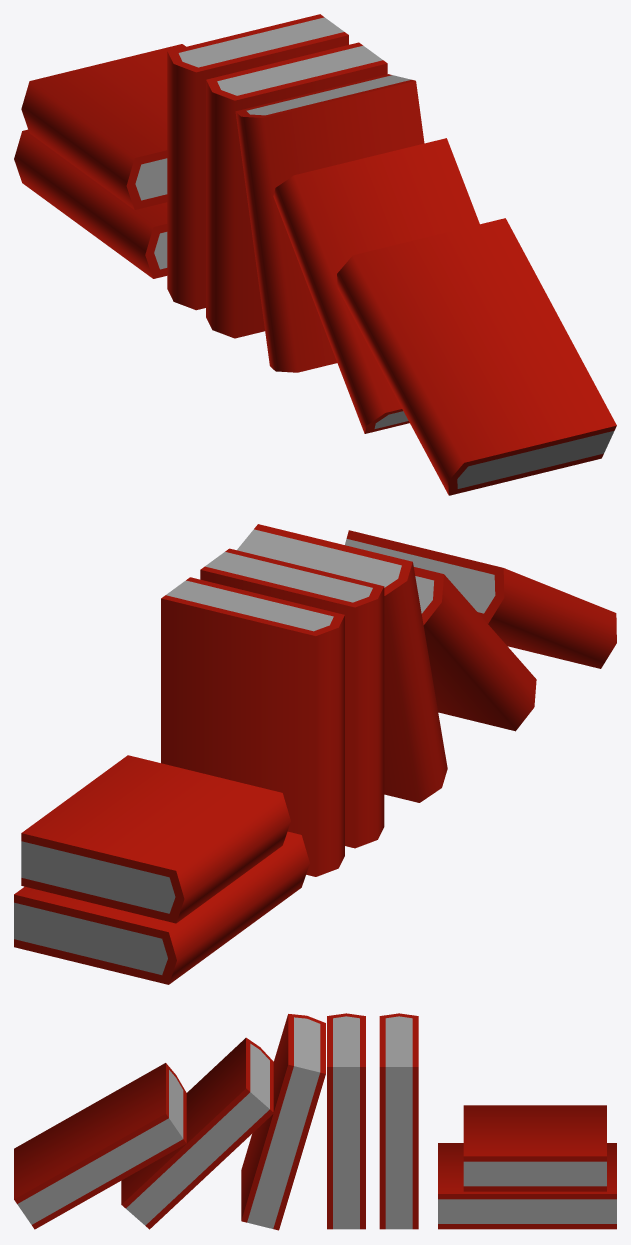
The model's file is GB_098_books.glb.
The picture shows the model from 3 angles, top to bottom: view 1: azimuth 30°, elevation 25°; view 2: azimuth 150°, elevation 25°; view 3: azimuth 270°, elevation 25°; orthographic projection. The views are drawn at different scales.
Parts seen in each view (by area): view 1: Book.006, Book.005, Book.004, Book, Book.003, Book.001, Book.002; view 2: Book.001, Book.003, Book.002, Book.004, Book, Book.006, Book.005; view 3: Book.006, Book.003, Book.005, Book.004, Book.002, Book.001, Book.
Boxes of the visible parts, x1,y1,x2,y2 form: Book.006: [337, 218, 616, 495]; Book.005: [273, 138, 479, 433]; Book.004: [235, 74, 424, 372]; Book: [206, 42, 387, 338]; Book.003: [21, 44, 185, 209]; Book.001: [167, 14, 348, 310]; Book.002: [14, 129, 167, 278]; Book.001: [161, 577, 344, 876]; Book.003: [21, 755, 290, 923]; Book.002: [14, 831, 309, 984]; Book.004: [237, 524, 447, 802]; Book: [200, 548, 384, 848]; Book.006: [345, 530, 616, 668]; Book.005: [414, 567, 536, 731]; Book.006: [14, 1063, 186, 1229]; Book.003: [463, 1105, 606, 1191]; Book.005: [121, 1037, 273, 1229]; Book.004: [241, 1014, 325, 1230]; Book.002: [438, 1143, 616, 1229]; Book.001: [379, 1013, 418, 1229]; Book: [327, 1013, 365, 1229].
Bounding box in the file's own units: 0.389 × 0.5614 × 1.85.
